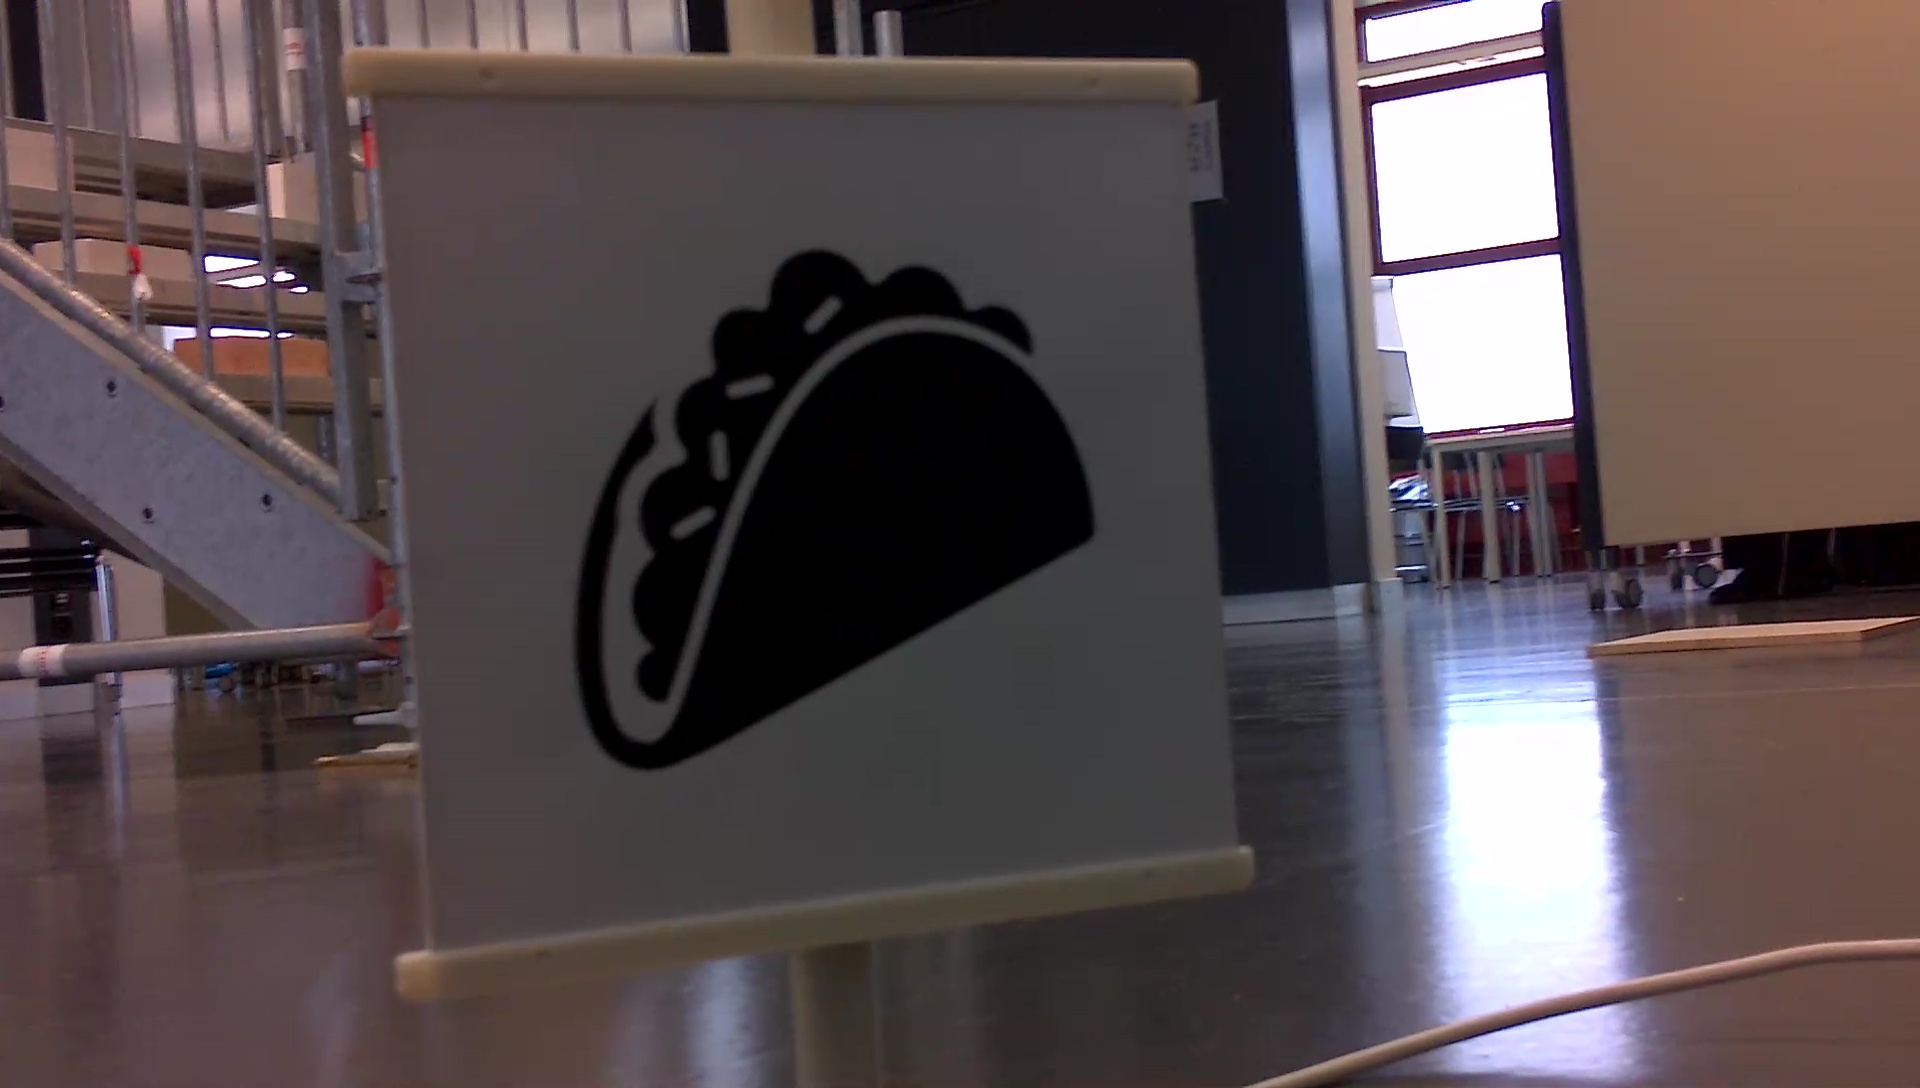taco: (560, 232, 1108, 779)
